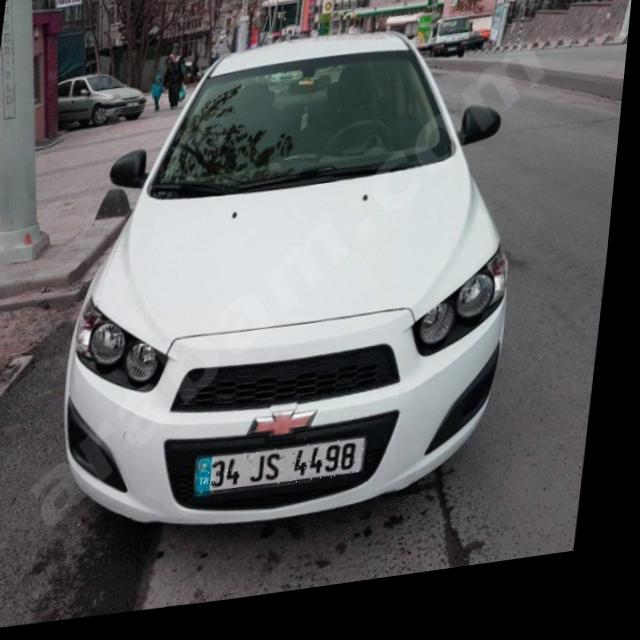license_plate: (202, 446, 376, 506)
